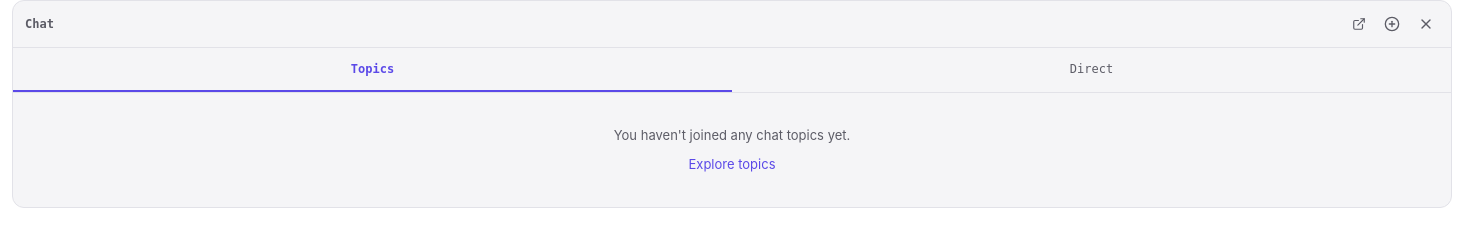
Test: new-conversation picker › EMPTY: no shareable candidates shows the explanatory empty state
This screenshot has width=1464, height=225.
Click the button named "New conversation" at (1392, 24), box [1379,11,1405,37]
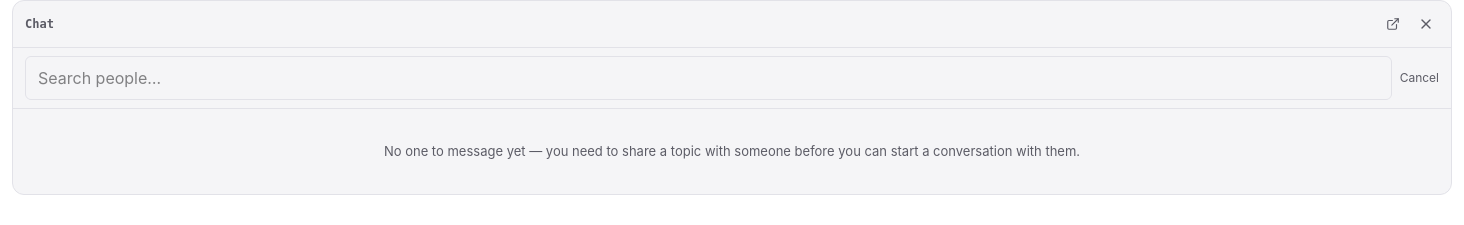
Now the text "No one to message yet" is shown, box [384,143,1080,159]
